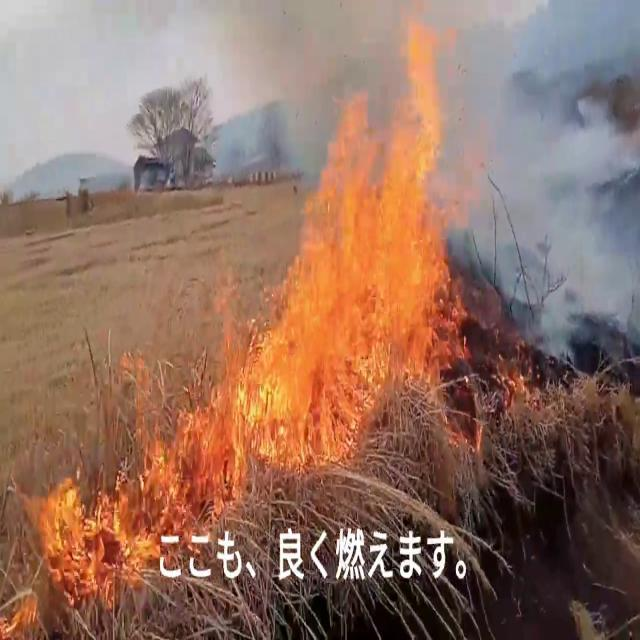Fire: (242, 44, 480, 488), (9, 387, 234, 625)
Smoke: (430, 0, 640, 348)
